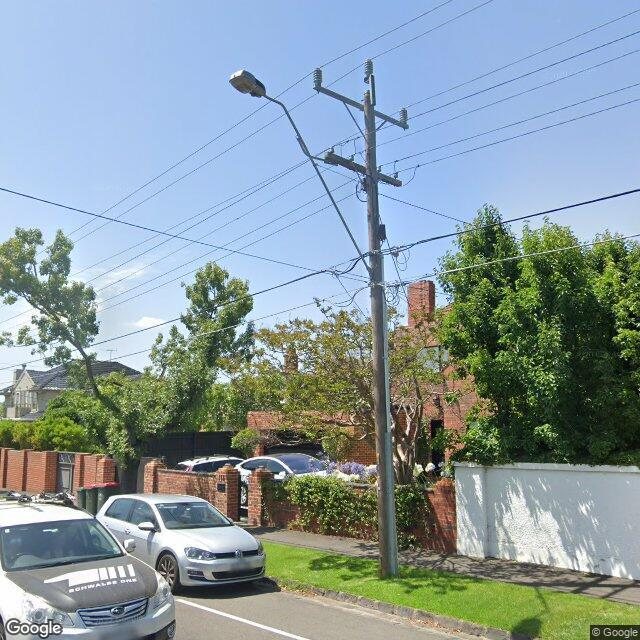HV-transmission: (312, 58, 409, 130)
crossarm: (324, 136, 421, 187), (322, 88, 408, 130)
streetlight: (228, 69, 373, 280)
timber-pole: (364, 89, 398, 579)
